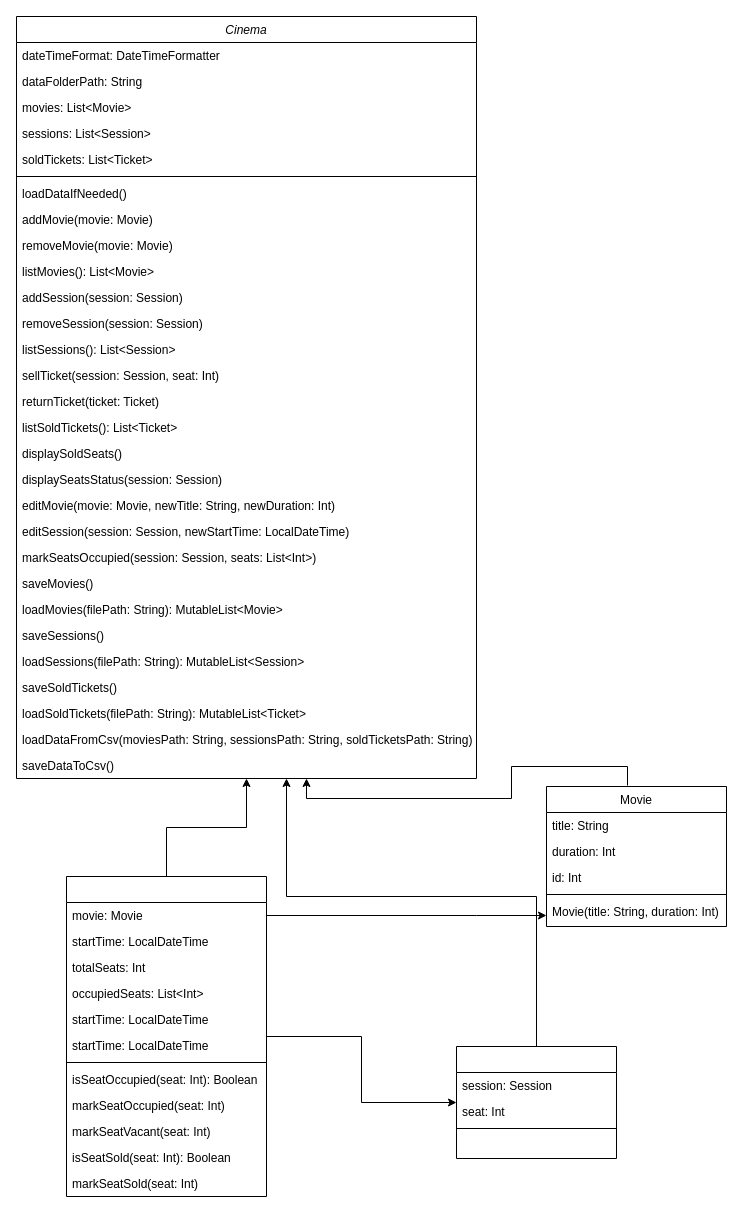
Image size: 743x1213. Some labels were removed from this diagram. The box of each missing label's shape, as (x1, y1, x2, y2) in pixels:
Session: (66, 876, 266, 1196)
Ticket: (456, 1046, 616, 1158)
